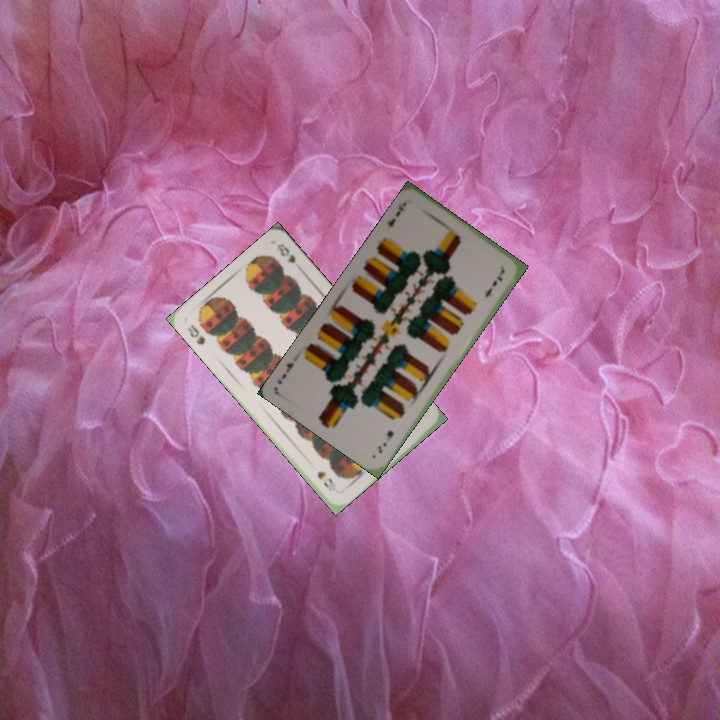E7: (383, 198, 409, 230), (373, 426, 396, 456)
S8: (183, 321, 208, 348)
